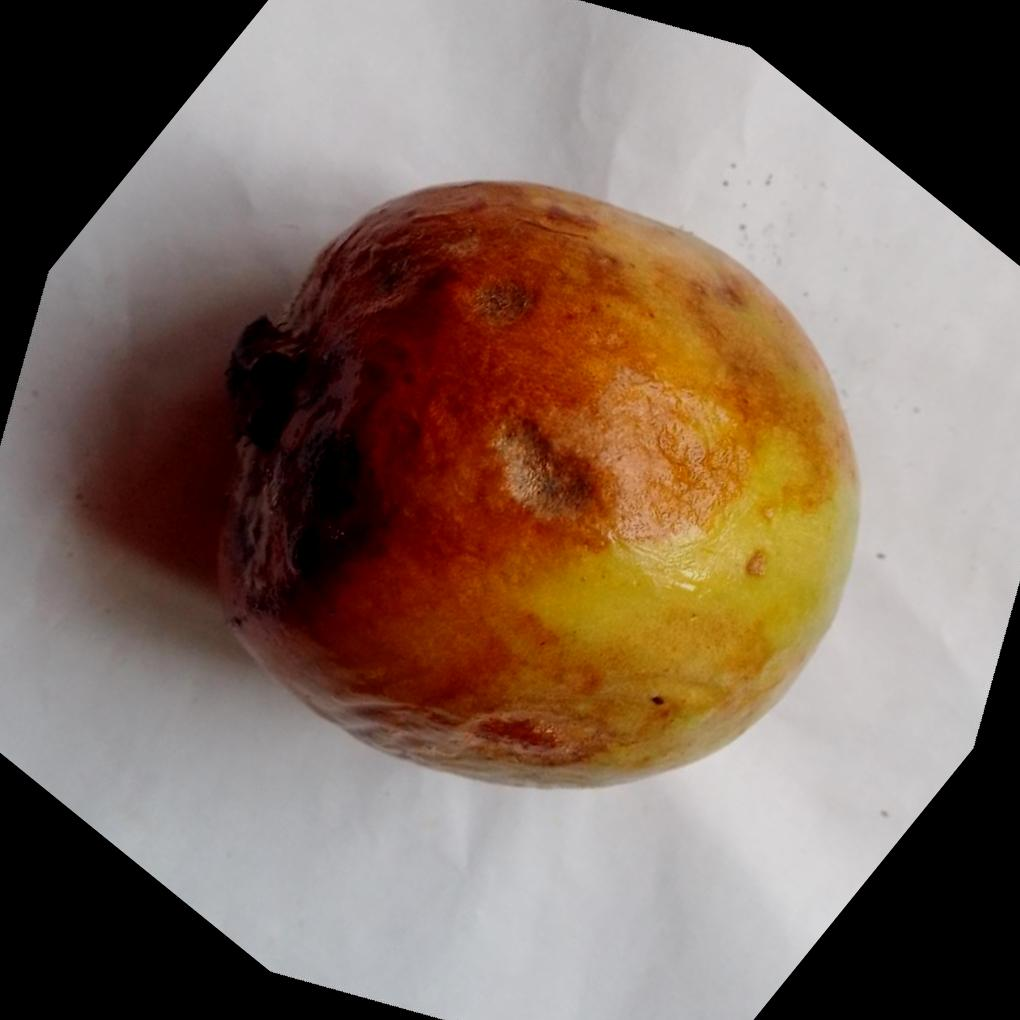FreshOrange: (211, 175, 862, 789)
